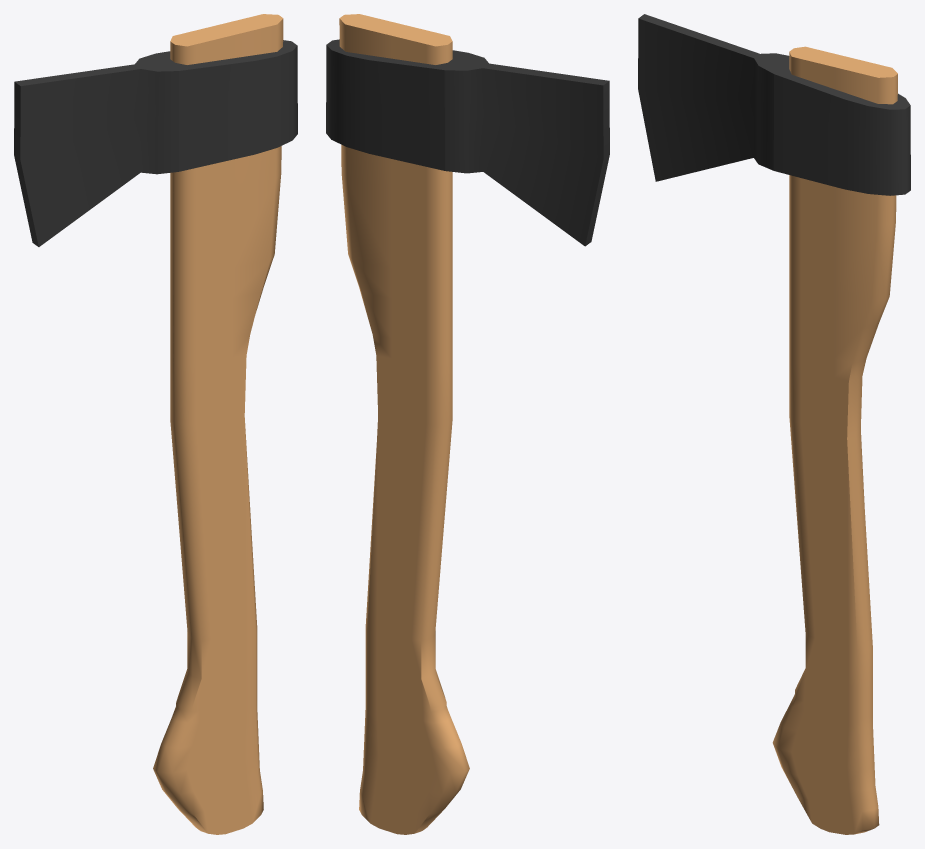
File: hachet.fbx
The picture shows the model from 3 angles, left to right: view 1: azimuth 30°, elevation 25°; view 2: azimuth 150°, elevation 25°; view 3: azimuth 330°, elevation 25°; orthographic projection. The views are drawn at different scales.
Visible parts, largest first — view 1: Hachet; view 2: Hachet; view 3: Hachet.
Boxes of the visible parts, x1,y1,x2,y2 form: Hachet: (14,14,297,834); Hachet: (326,14,609,834); Hachet: (638,14,910,834).
Size of the model in its own units: 0.2404 by 0.6593 by 0.0396.
